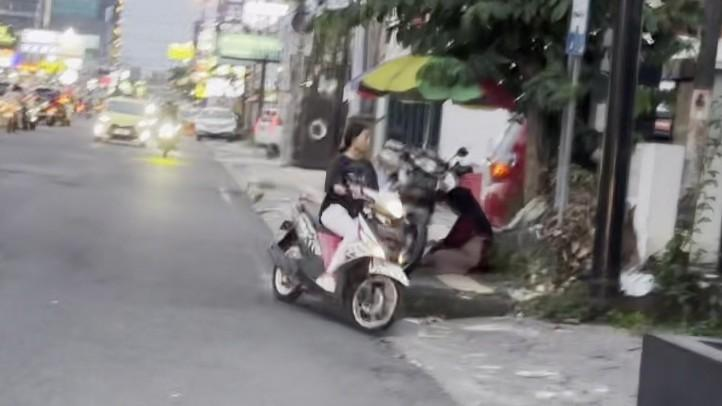nohelm: (343, 123, 372, 154)
riding: (266, 119, 413, 333)
